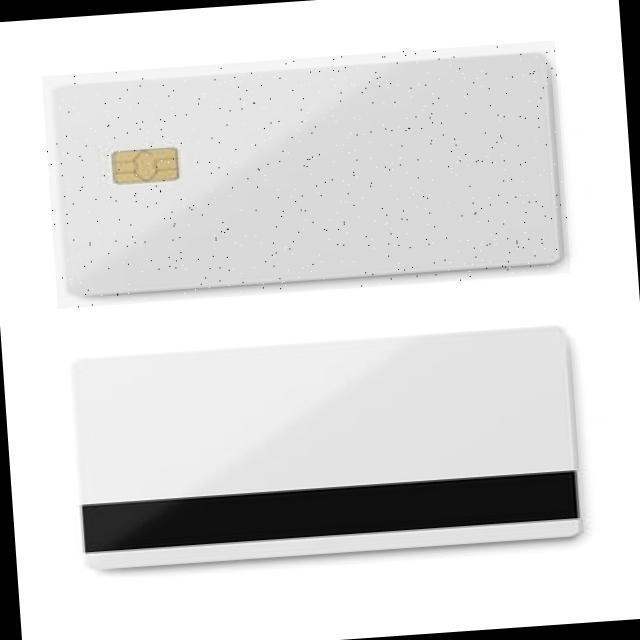payment_card: (42, 41, 565, 298), (73, 323, 584, 567)
